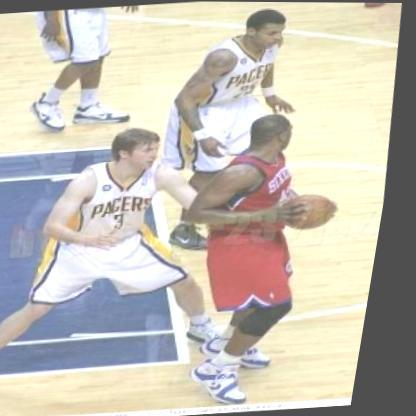basketball: (285, 189, 343, 234)
